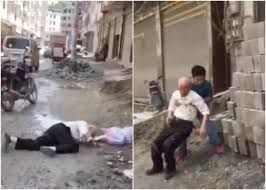falling: (137, 73, 214, 177)
